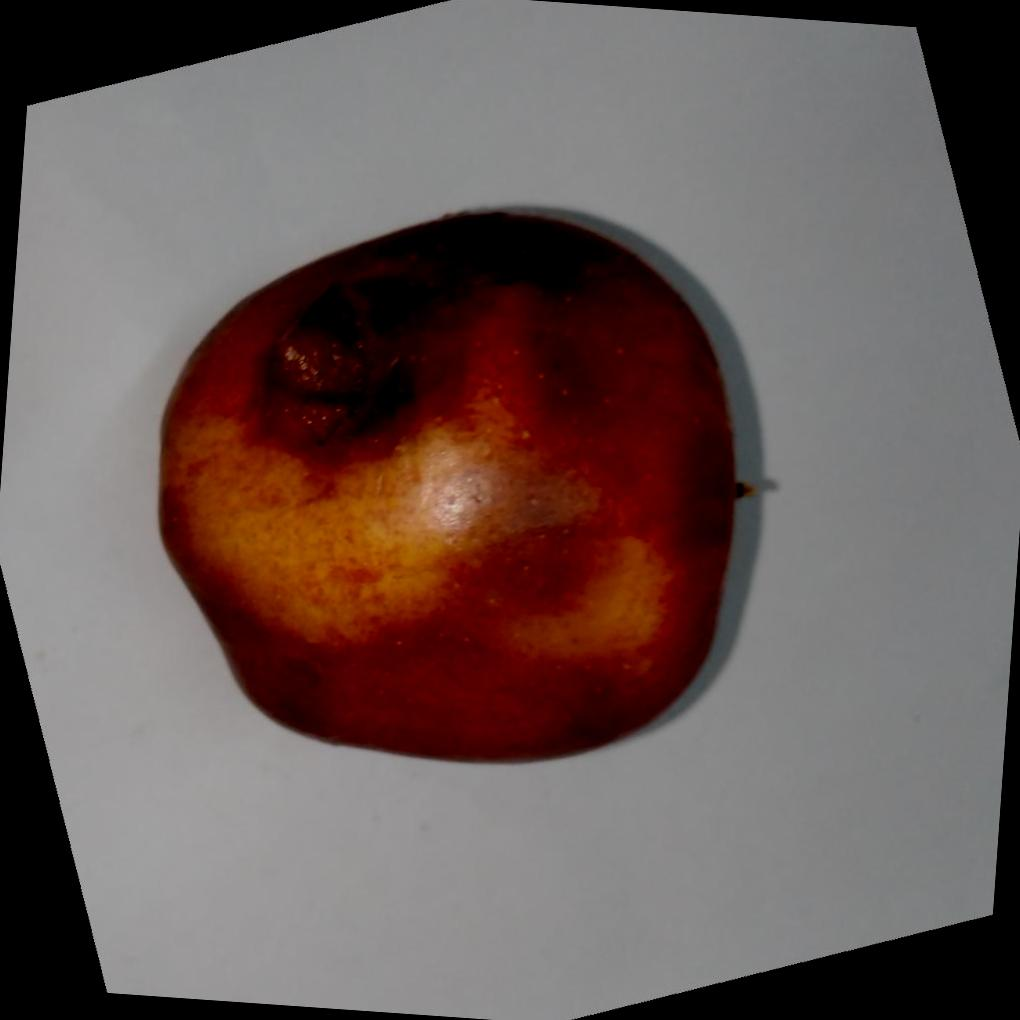FreshOrange: (156, 208, 751, 766)
